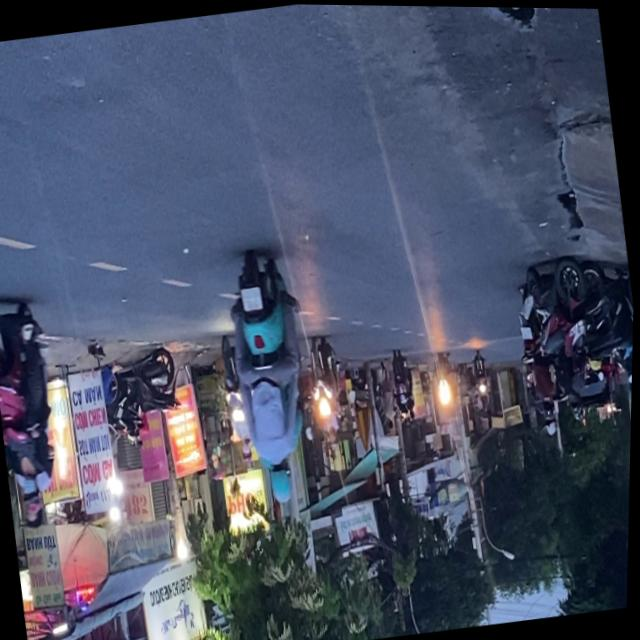helmet: (269, 460, 298, 505), (21, 478, 46, 513)
licenseplate: (217, 243, 330, 510), (0, 288, 74, 526)
nohelmet: (242, 286, 265, 312)
